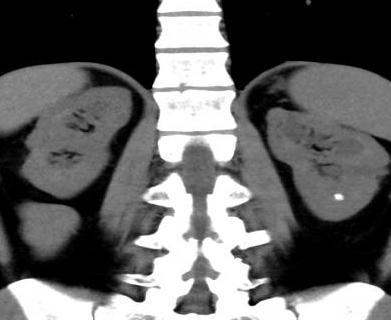Tas_Var: (334, 193, 344, 200), (339, 198, 344, 202)
